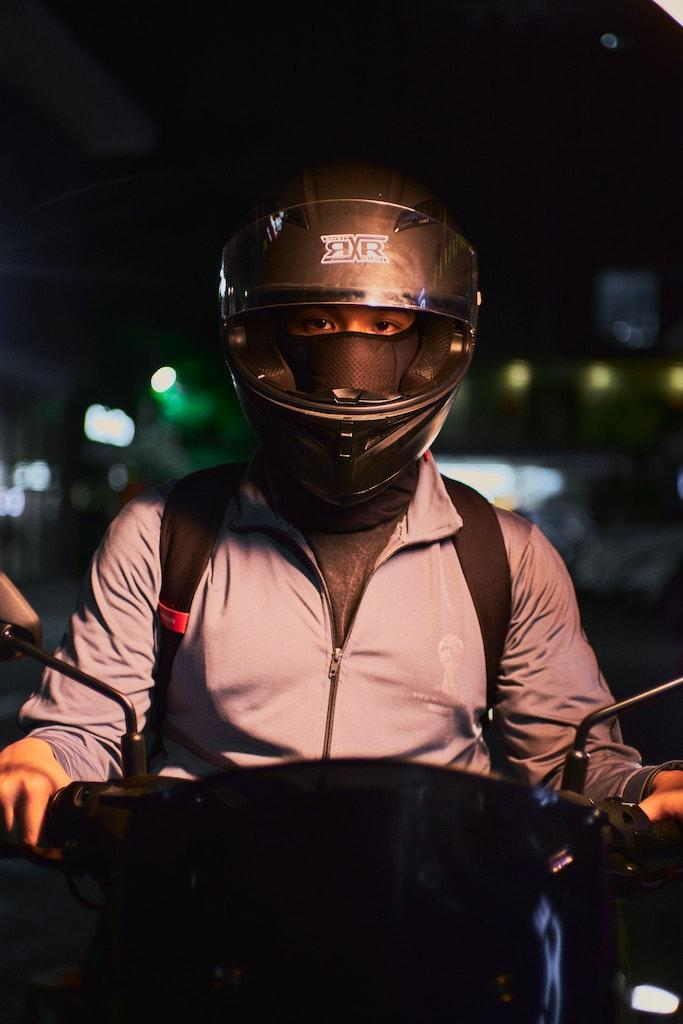helmet: (215, 154, 484, 510)
